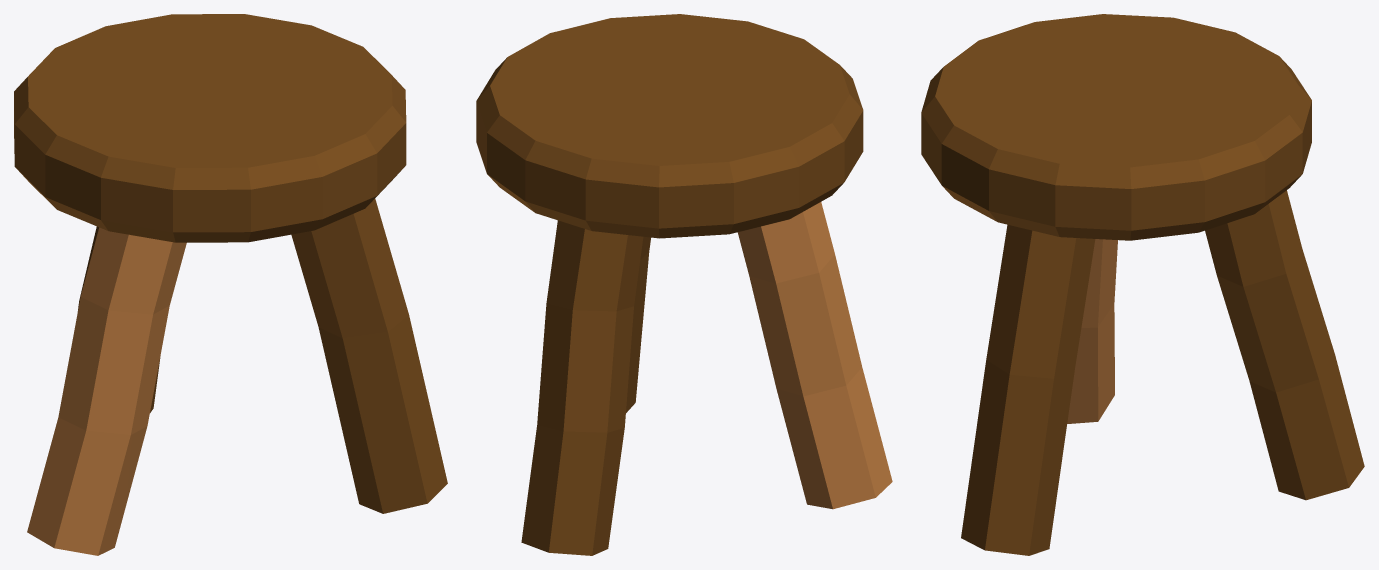
The model's file is Beach_House_Stool_01.fbx.
The picture shows the model from 3 angles, left to right: view 1: azimuth 30°, elevation 25°; view 2: azimuth 150°, elevation 25°; view 3: azimuth 270°, elevation 25°; orthographic projection. The views are drawn at different scales.
Parts seen in each view (by area): view 1: Beach_House_Stool_01; view 2: Beach_House_Stool_01; view 3: Beach_House_Stool_01.
Part boxes in pixels (x1=…): Beach_House_Stool_01: x1=14, y1=14, x2=447, y2=555; Beach_House_Stool_01: x1=476, y1=14, x2=892, y2=555; Beach_House_Stool_01: x1=921, y1=14, x2=1364, y2=555.
Size of the model in its own units: 1.33 by 1.39 by 1.4.
